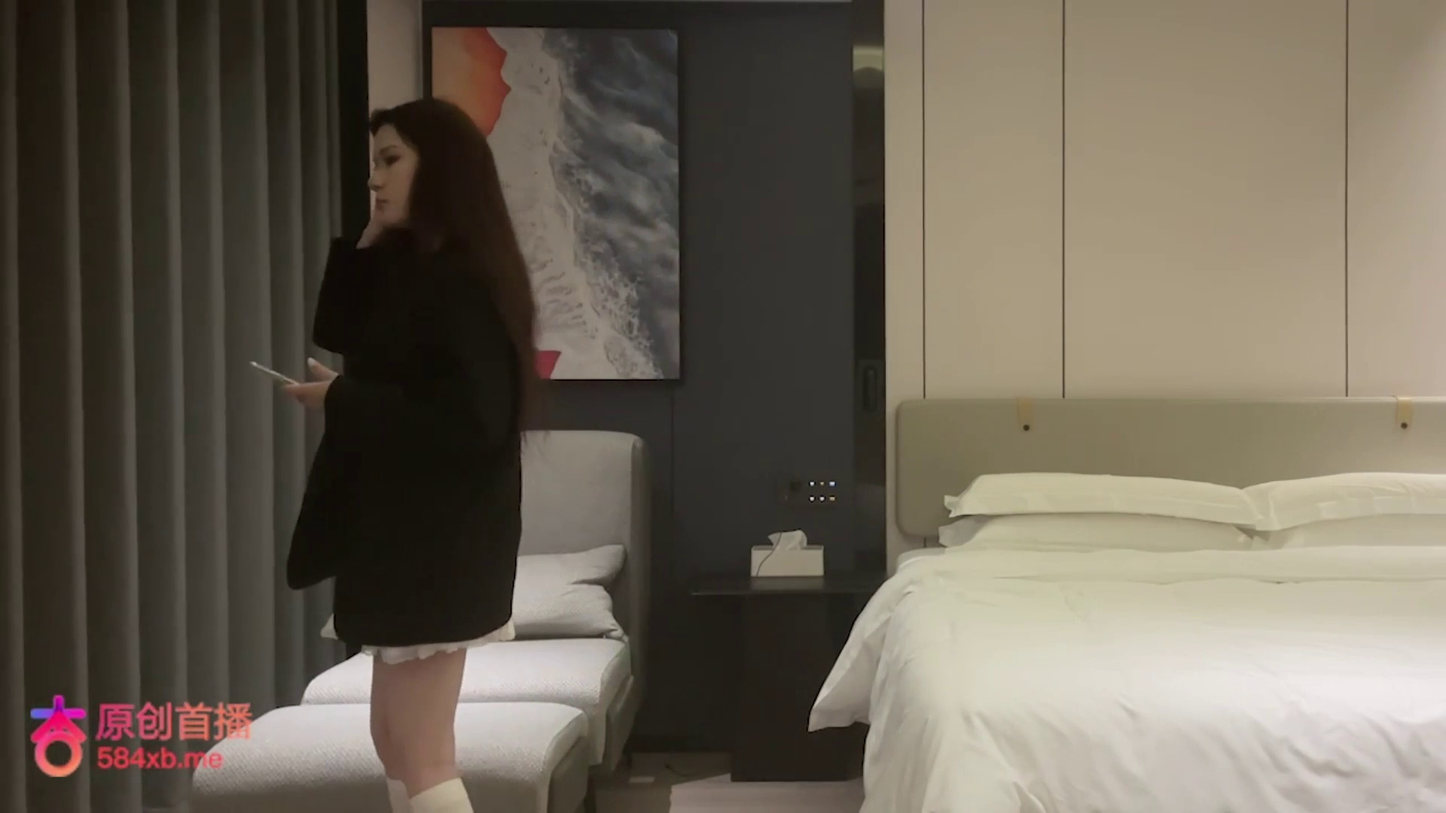stand: (279, 94, 539, 808)
